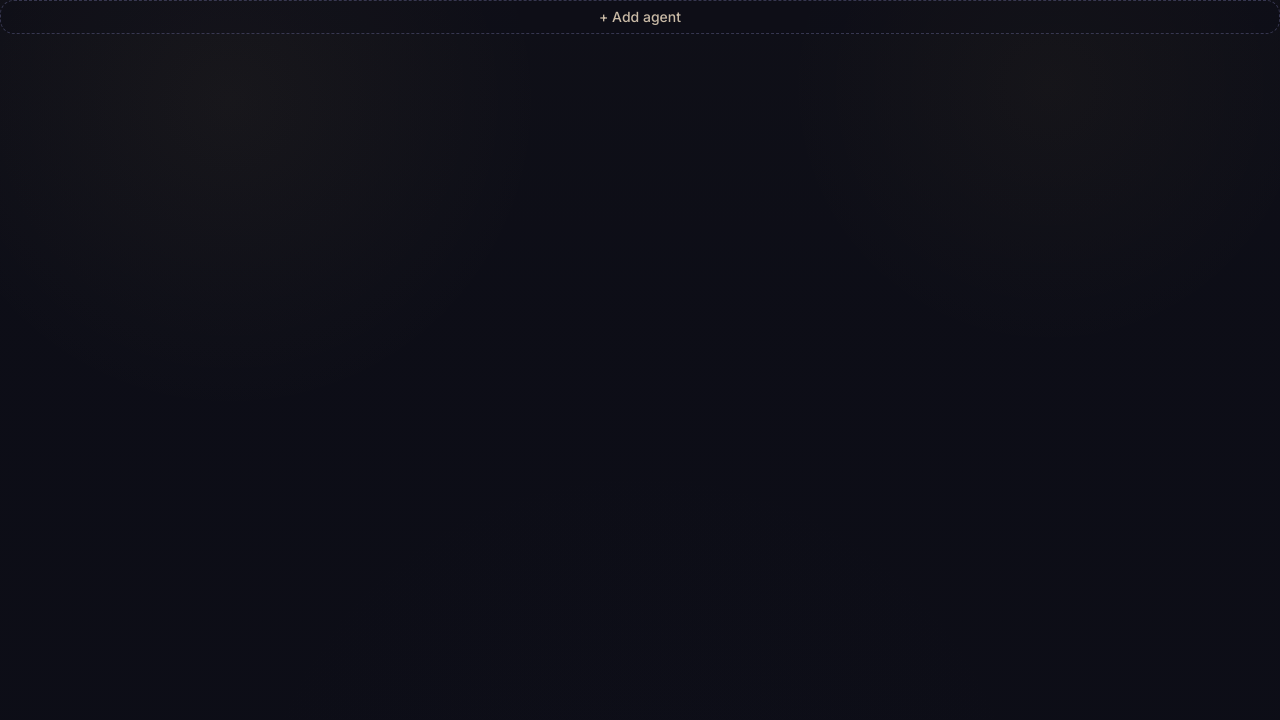
it: AddAgentPopover › shows loading state when popover is open
Click the button "+ Add agent": (640, 17) [0,0,1279,34]
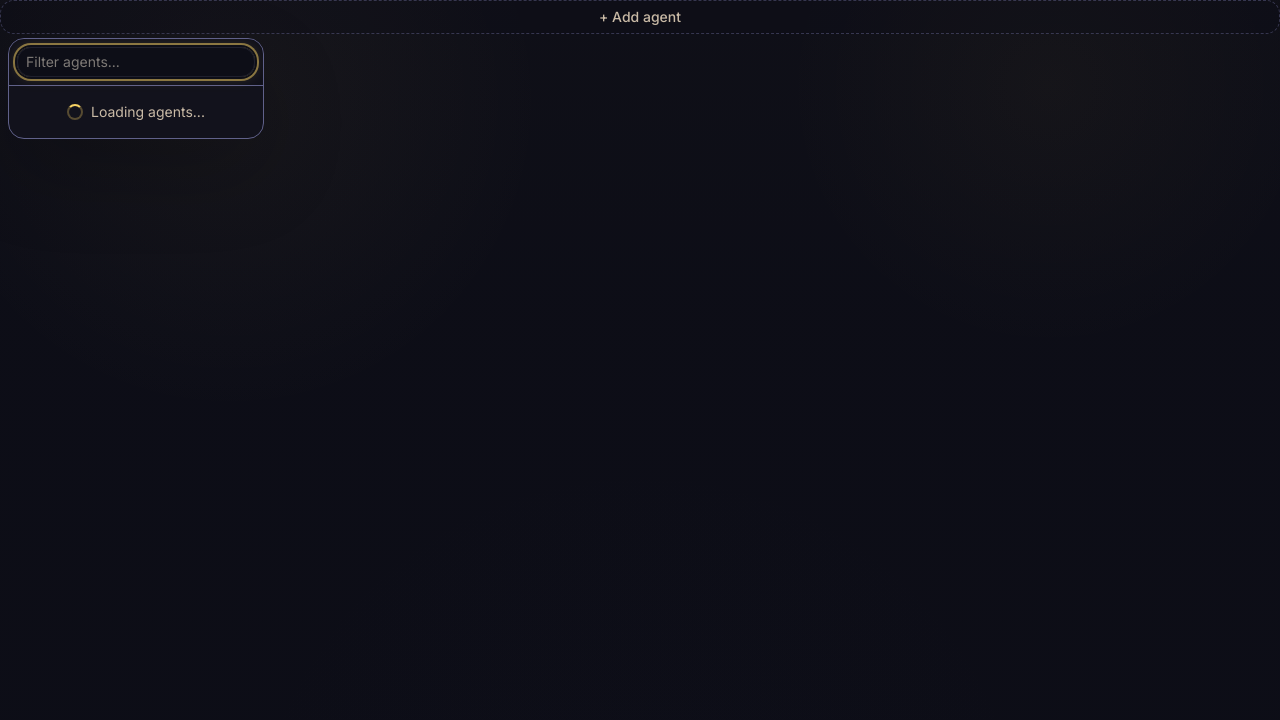
Expected: the text "Loading agents..." is shown, [67,103,205,120]
